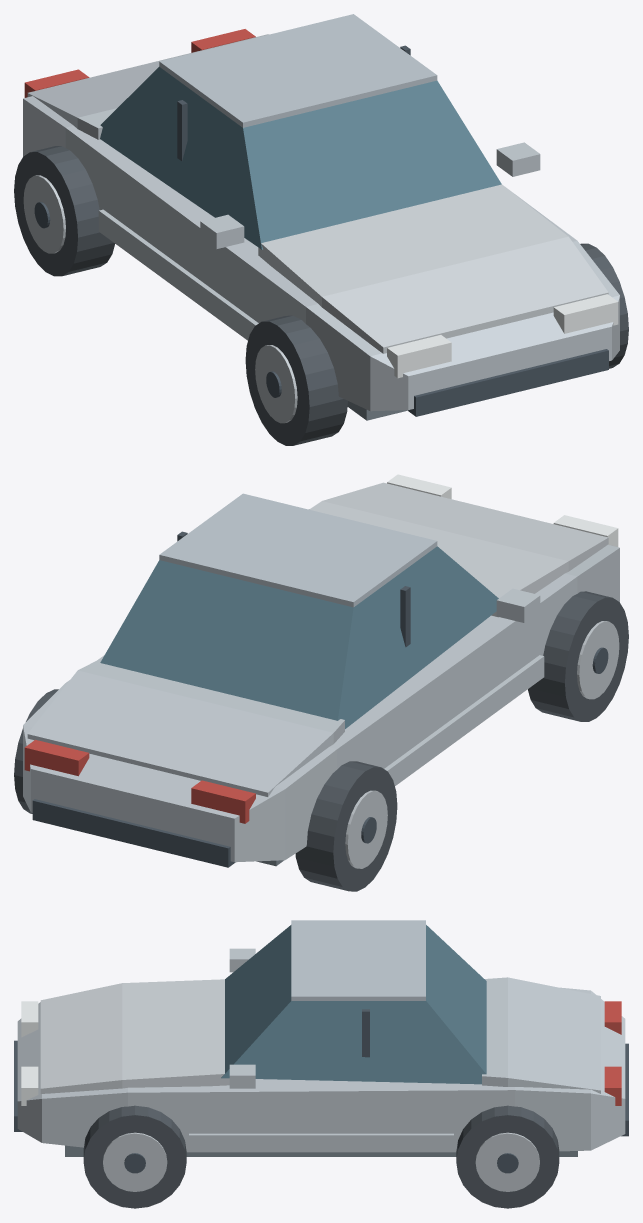
Rendered from generic-vehicle.glb.
3 views of the same model, one above another, from view 1: azimuth 30°, elevation 25°; view 2: azimuth 150°, elevation 25°; view 3: azimuth 270°, elevation 25° (orthographic). The views are drawn at different scales.
Visible parts, largest first — view 1: CABIN, BODY_SHELL, ENGINE_BAY, WHEEL_FR, WHEEL_RR, LIGHTS_FRONT, LIGHTS_REAR, WHEEL_FL; view 2: BODY_SHELL, CABIN, ENGINE_BAY, WHEEL_RR, WHEEL_FR, LIGHTS_REAR, LIGHTS_FRONT, WHEEL_RL; view 3: BODY_SHELL, CABIN, ENGINE_BAY, WHEEL_FL, WHEEL_RL, UNDERBODY, LIGHTS_FRONT, LIGHTS_REAR.
Part boxes in pixels (box(x1,y1,x2,y2)): CABIN: box(100, 14, 501, 249); BODY_SHELL: box(23, 34, 619, 416); ENGINE_BAY: box(258, 184, 608, 353); WHEEL_FR: box(245, 315, 347, 445); WHEEL_RR: box(14, 146, 114, 276); LIGHTS_FRONT: box(387, 294, 618, 378); LIGHTS_REAR: box(24, 29, 255, 97); WHEEL_FL: box(580, 243, 628, 368); BODY_SHELL: box(23, 509, 619, 867); CABIN: box(100, 493, 498, 728); ENGINE_BAY: box(309, 482, 608, 617); WHEEL_RR: box(295, 761, 397, 891); WHEEL_FR: box(528, 591, 628, 721); LIGHTS_REAR: box(24, 739, 255, 823); LIGHTS_FRONT: box(387, 474, 618, 546); WHEEL_RL: box(14, 689, 58, 813); BODY_SHELL: box(14, 948, 628, 1152); CABIN: box(221, 920, 486, 1084); ENGINE_BAY: box(40, 979, 229, 1093); WHEEL_FL: box(83, 1105, 186, 1208); WHEEL_RL: box(456, 1105, 559, 1208); UNDERBODY: box(65, 1145, 577, 1156); LIGHTS_FRONT: box(21, 1001, 38, 1105); LIGHTS_REAR: box(604, 1001, 621, 1105).
Size of the model in its own units: 2.13 by 1.44 by 4.29.
